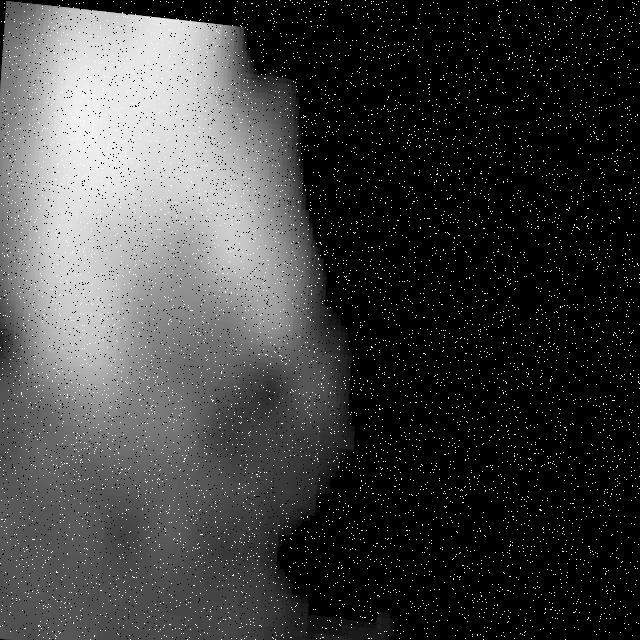person: (1, 2, 339, 479)
